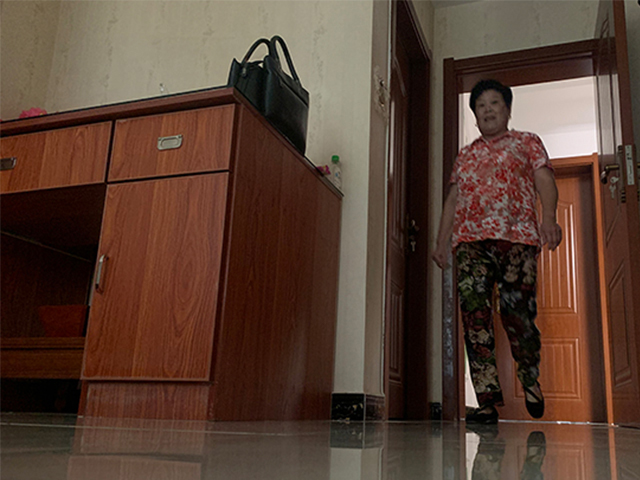table: (2, 84, 345, 423)
